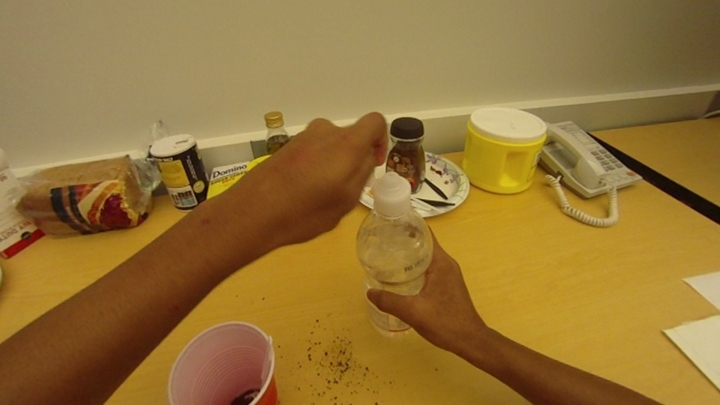hand: (245, 112, 390, 240), (373, 214, 489, 361)
